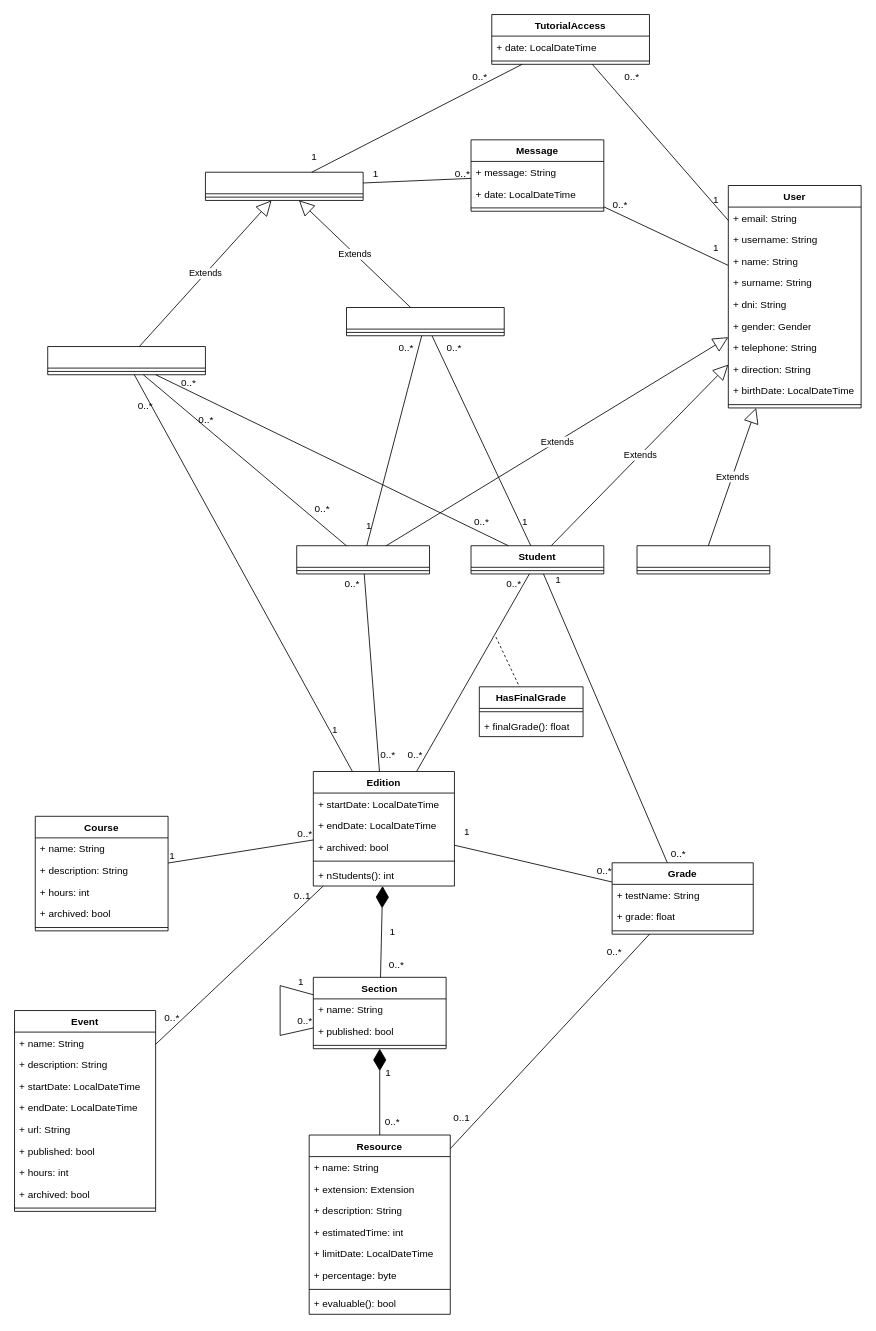
Image size: 876x1331. Some labels were removed from this diagram. The centre of each missing label's shape, as x and y in pixels:
Admin: pixel 703 559
GrupalTutorial: pixel 126 360
IndividualTutorial: pixel 425 321
Teacher: pixel 363 559
Tutorial: pixel 284 185
